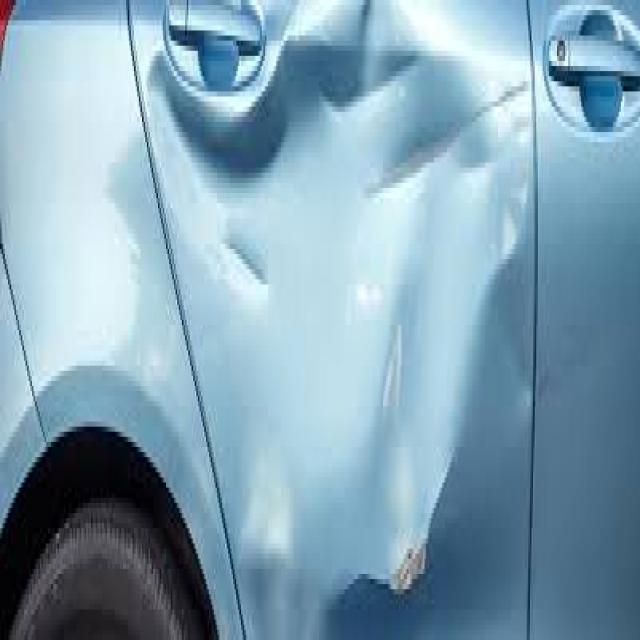minor: (90, 14, 586, 628)
